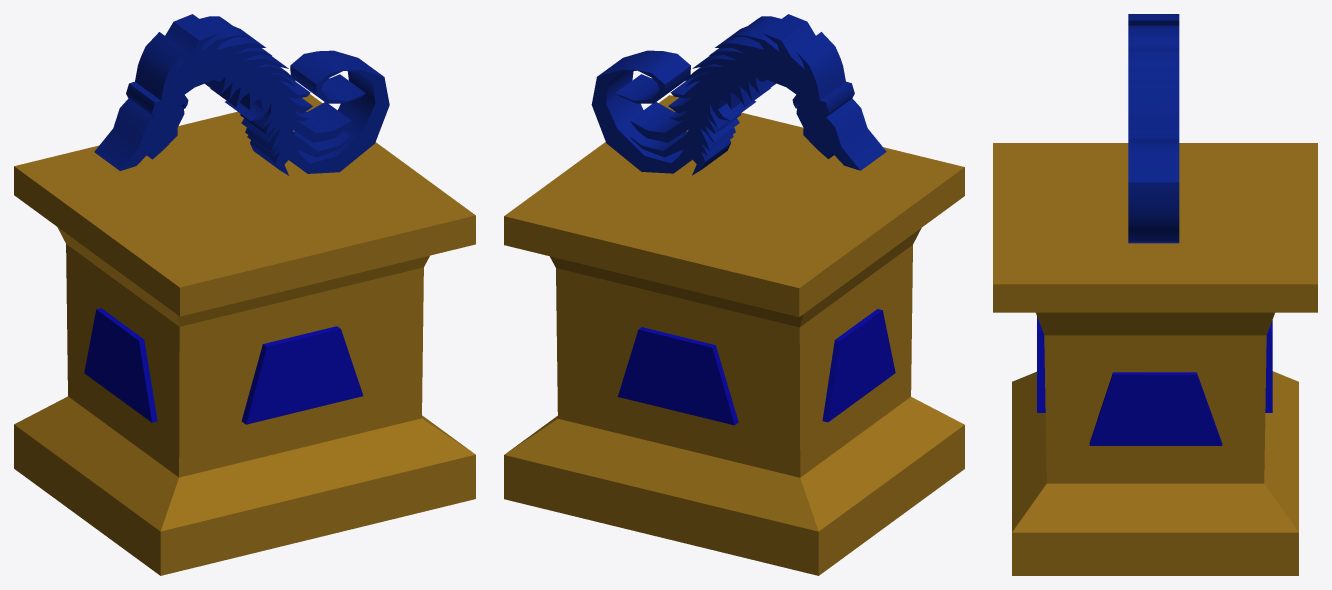
Rendered from Blue blessing.fbx.
3 views of the same model, side by side, from view 1: azimuth 30°, elevation 25°; view 2: azimuth 150°, elevation 25°; view 3: azimuth 270°, elevation 25° (orthographic). The views are drawn at different scales.
Parts seen in each view (by area): view 1: Plane021; view 2: Plane021; view 3: Plane021.
Part boxes in pixels (x1=…): Plane021: x1=14, y1=14, x2=475, y2=575; Plane021: x1=504, y1=14, x2=964, y2=575; Plane021: x1=993, y1=14, x2=1317, y2=575.
Bounding box in the file's own units: 50.66 × 72.28 × 46.16.
